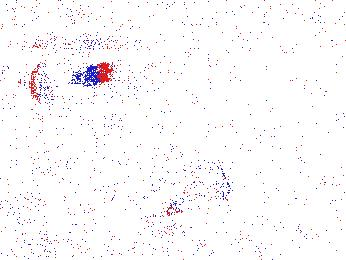flame jellyfish: (163, 157, 232, 216), (29, 60, 111, 109), (1, 173, 39, 233)
